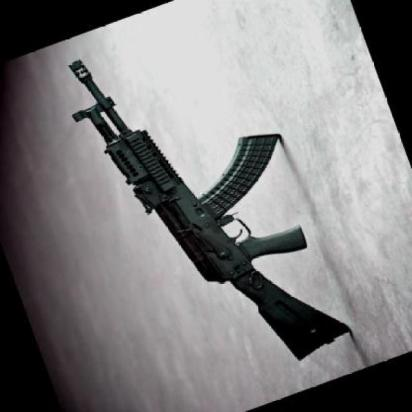Gun: (57, 0, 368, 408)
